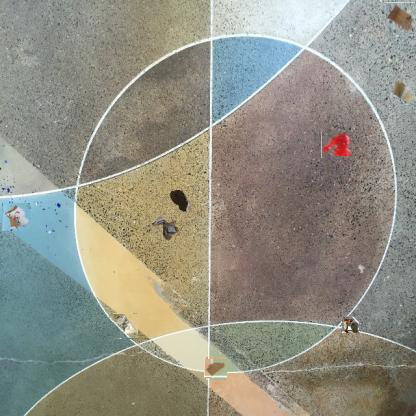dirty: (385, 2, 415, 33), (150, 214, 180, 242), (2, 203, 30, 231), (388, 78, 416, 105), (113, 313, 137, 339), (205, 358, 227, 379), (341, 316, 359, 334)
liquid: (321, 132, 352, 158), (168, 190, 192, 214)
